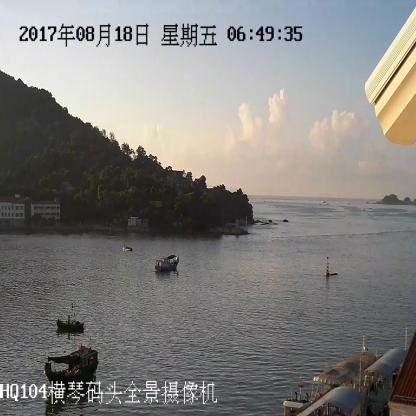Fishing Boat: (44, 349, 97, 380), (57, 315, 84, 332), (155, 254, 178, 271), (122, 245, 132, 252)
